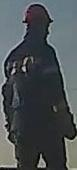gloves: (60, 108, 77, 142), (3, 119, 16, 144)
helmet: (21, 3, 55, 28)
vest: (0, 40, 60, 126)
